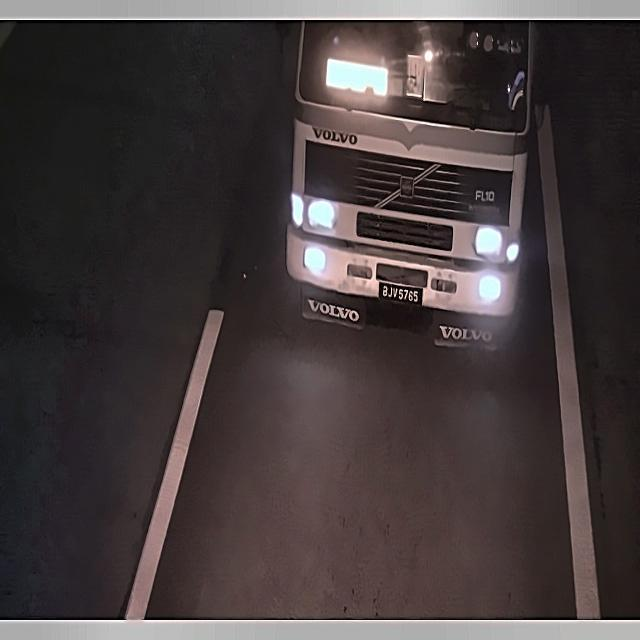car: (373, 277, 424, 313)
